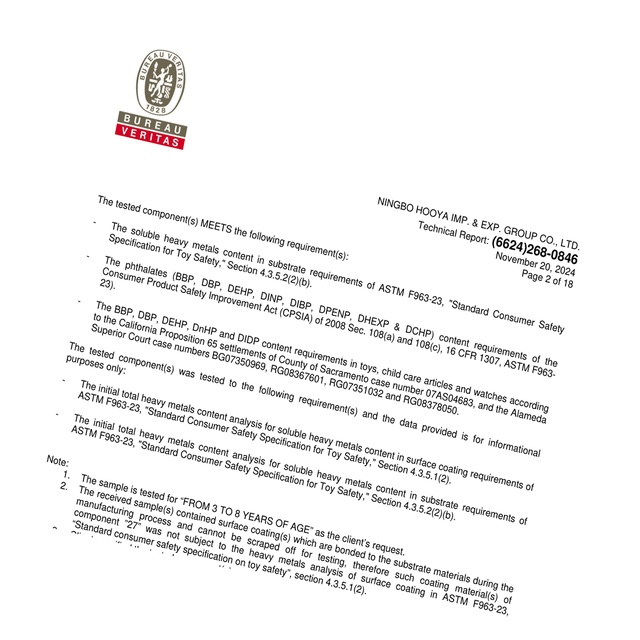bureau_veritas: (111, 44, 190, 154)
